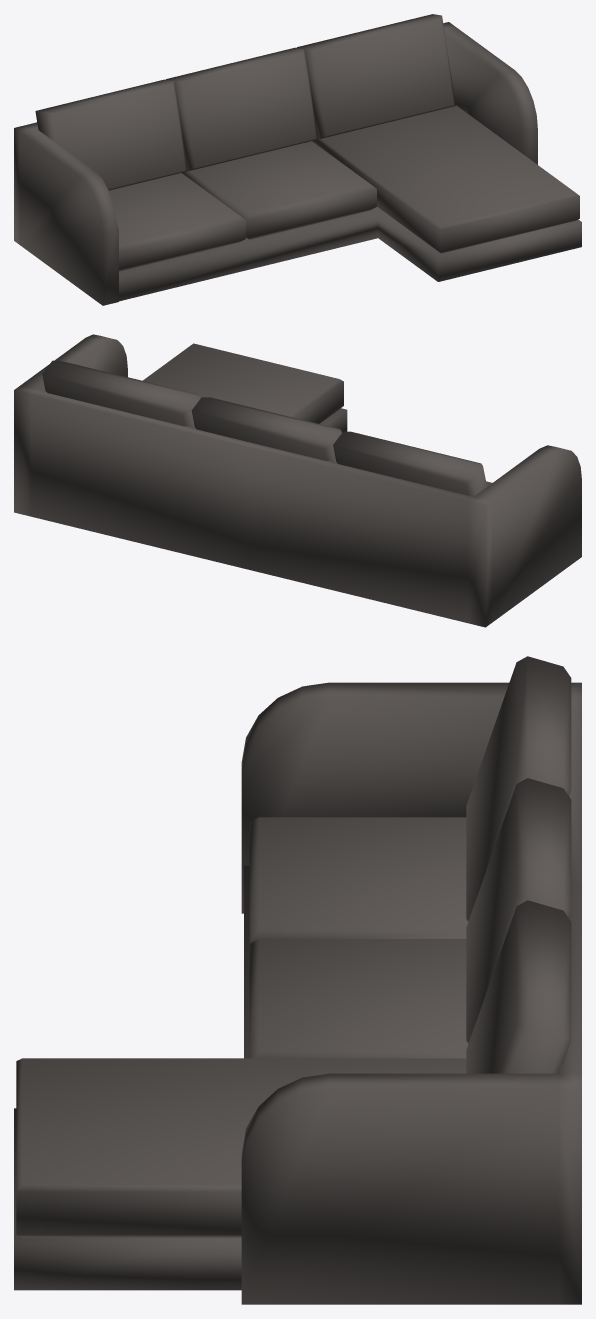
Rendered from Sofa_05.fbx.
3 renders of one model, top to bottom at view 1: azimuth 30°, elevation 25°; view 2: azimuth 150°, elevation 25°; view 3: azimuth 270°, elevation 25°, orthographic. The views are drawn at different scales.
Parts seen in each view (by area): view 1: Sofa_05; view 2: Sofa_05; view 3: Sofa_05.
Boxes of the visible parts, bbox=[...] form: Sofa_05: bbox=[14, 14, 581, 305]; Sofa_05: bbox=[14, 334, 581, 627]; Sofa_05: bbox=[14, 656, 581, 1304].
Size of the model in its own units: 324 by 95.87 by 191.
